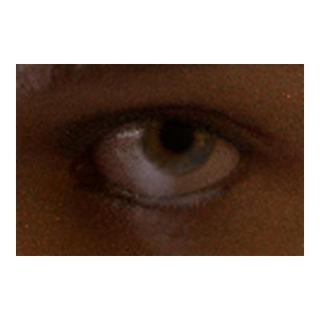pupil: (162, 118, 194, 150)
